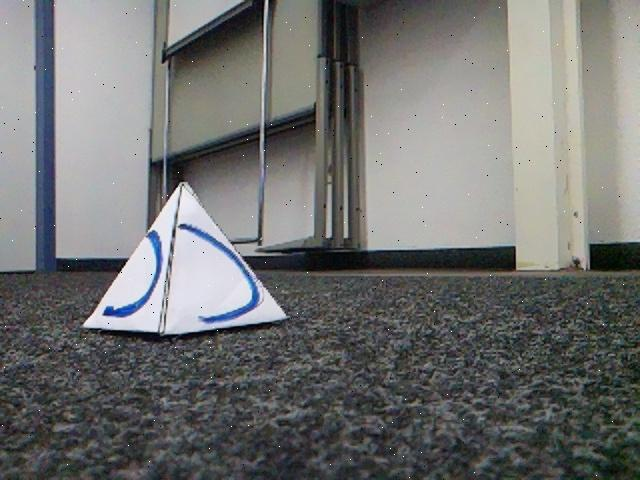C: (85, 180, 288, 335)
